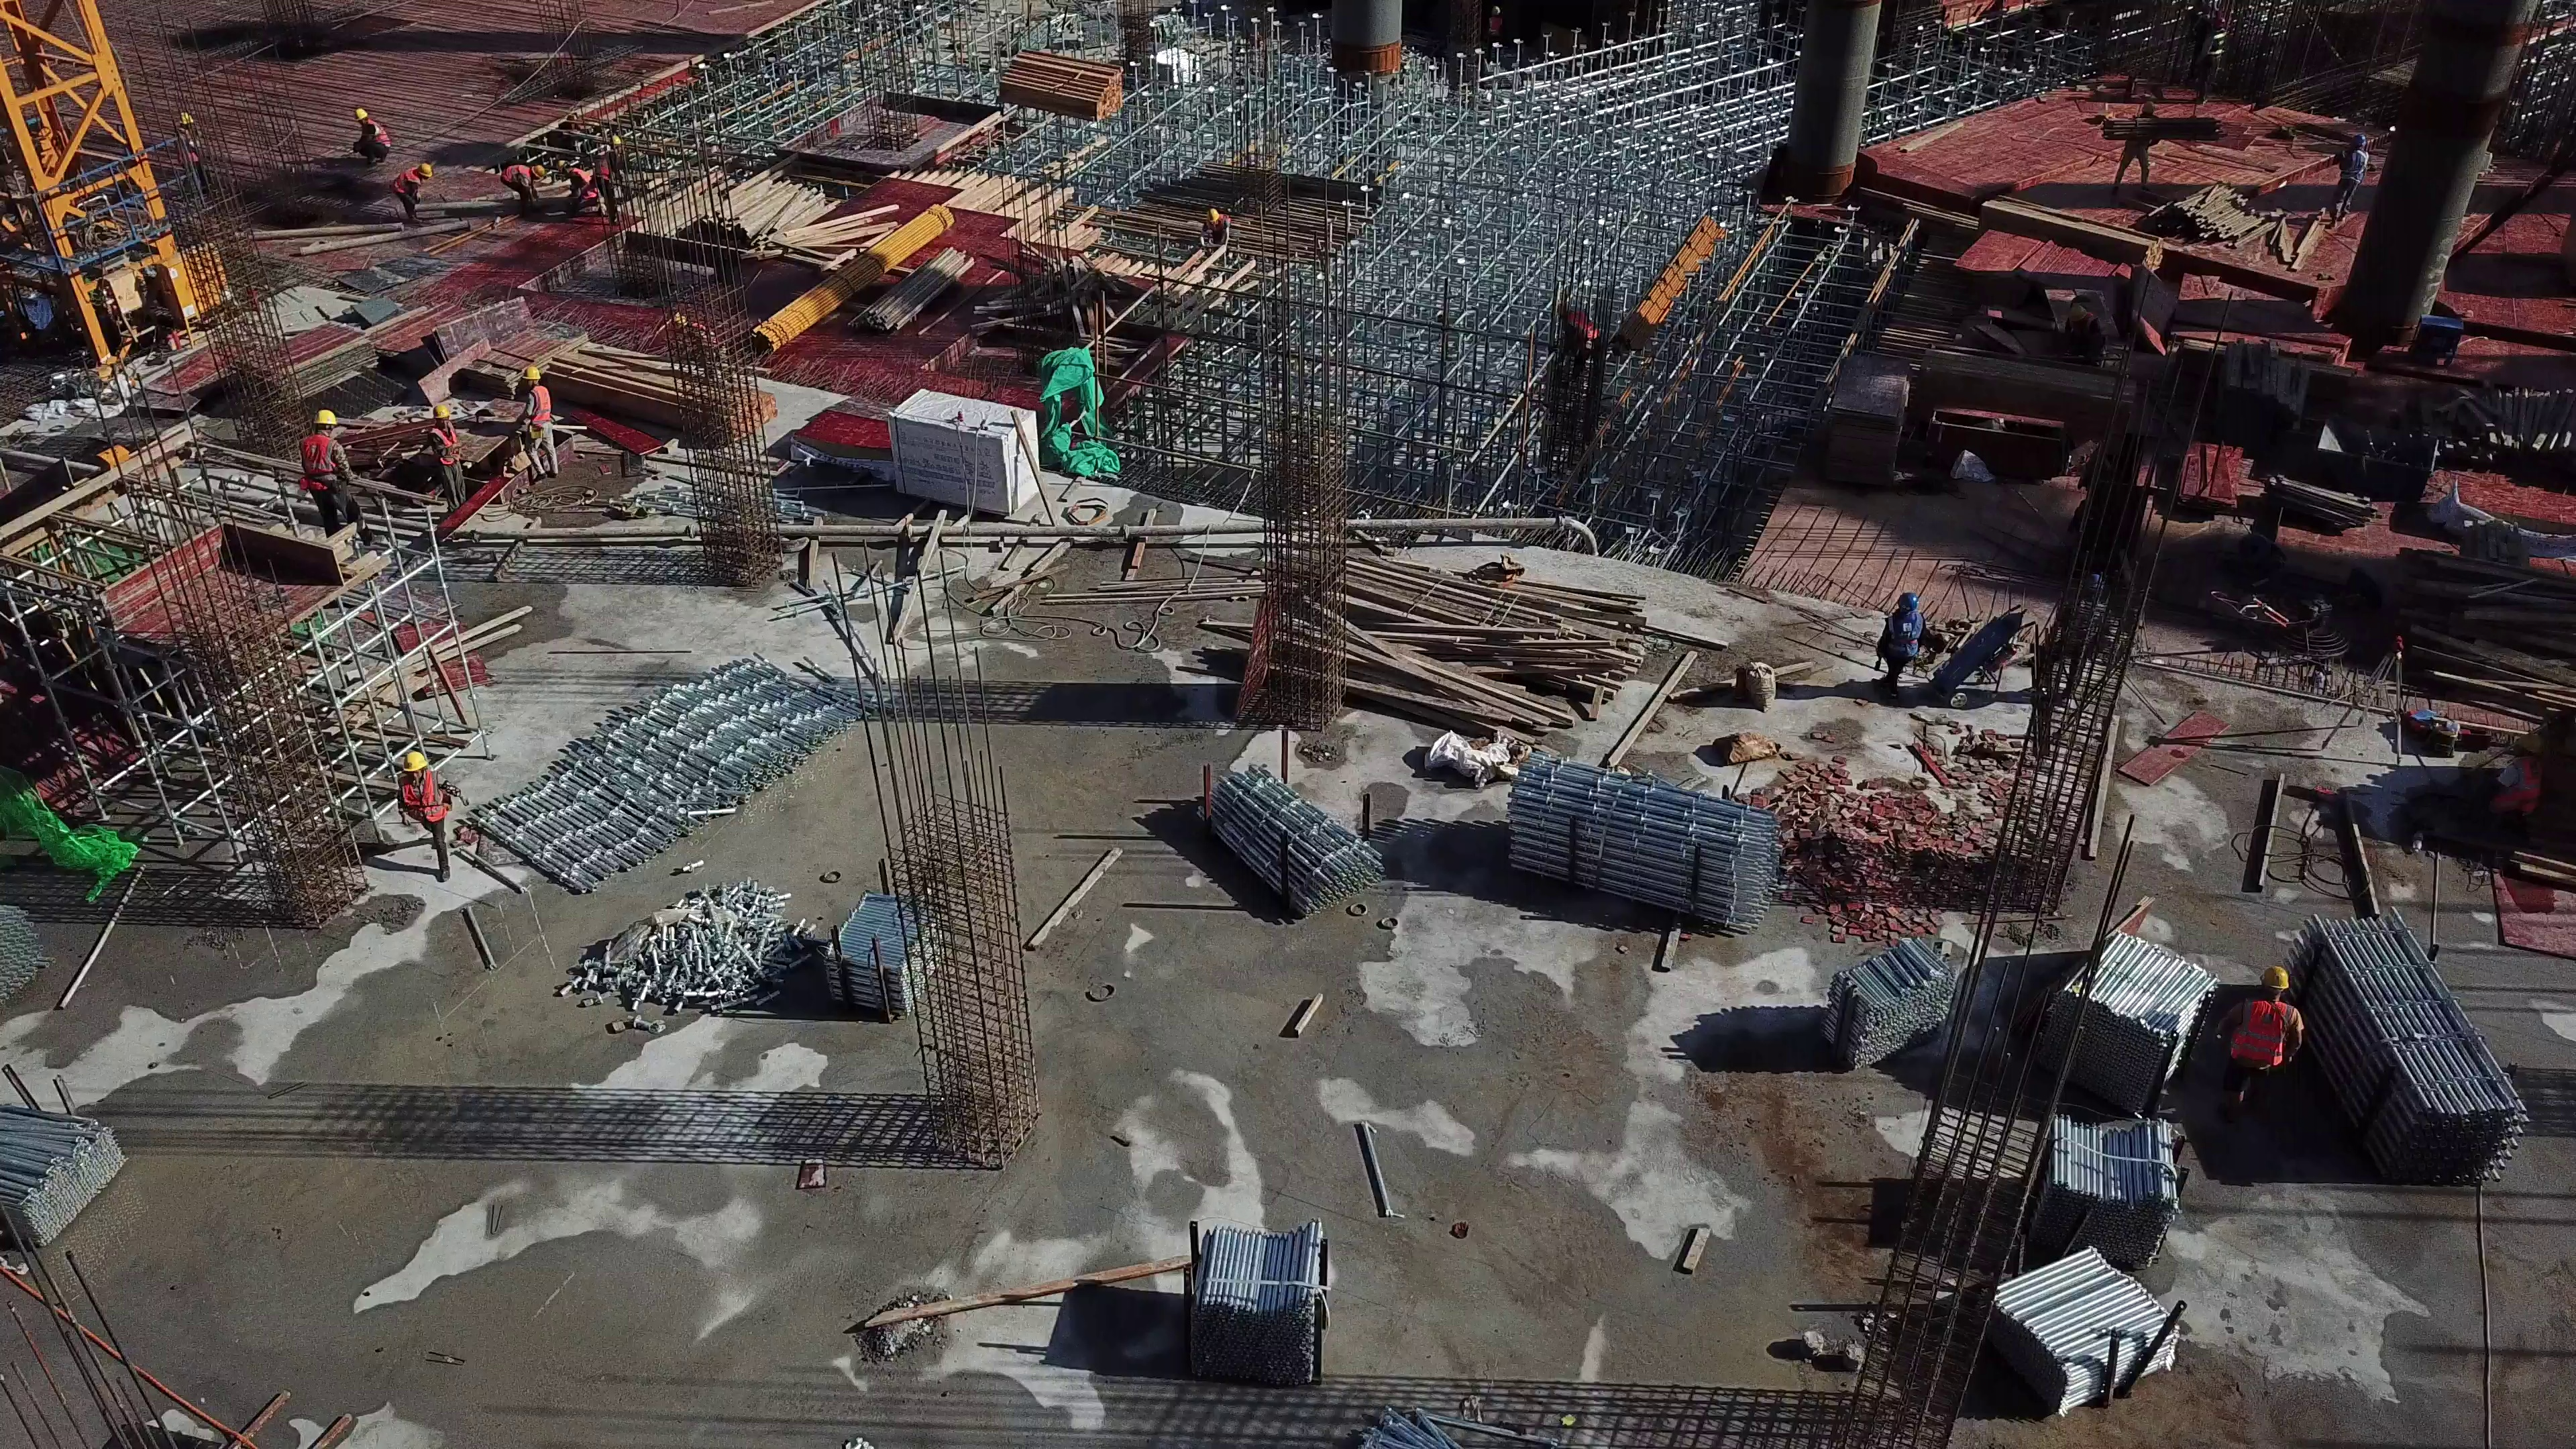board: (1827, 351, 1912, 485), (246, 325, 377, 400), (439, 304, 559, 382)
ebox: (164, 235, 235, 330), (2410, 307, 2459, 370)
helmet: (2257, 963, 2292, 992), (399, 747, 430, 775), (2518, 727, 2544, 751), (1896, 592, 1921, 612), (312, 409, 340, 427), (428, 401, 451, 419), (519, 365, 541, 382), (350, 107, 369, 124), (528, 162, 545, 182), (2350, 130, 2370, 146), (415, 160, 435, 177), (1205, 207, 1222, 223), (177, 113, 192, 125)
person: (2218, 959, 2310, 1136), (297, 408, 372, 557), (390, 754, 462, 894), (2486, 730, 2550, 837), (515, 366, 568, 489), (1871, 592, 1933, 694), (423, 410, 478, 522), (1554, 304, 1607, 373), (2332, 132, 2367, 229), (2118, 101, 2157, 188), (174, 113, 210, 199), (498, 158, 543, 217), (351, 105, 393, 168), (389, 160, 432, 219), (559, 161, 597, 218), (596, 151, 625, 220)
scaffold: (490, 630, 859, 898), (2303, 915, 2520, 1195), (1500, 750, 1777, 955), (1960, 1245, 2202, 1426), (1182, 765, 1376, 932), (2043, 930, 2202, 1094), (1182, 1216, 1333, 1378), (610, 893, 826, 1005), (2019, 1108, 2171, 1250), (1, 1095, 127, 1256), (1830, 939, 1966, 1067), (807, 890, 939, 1016)
vest: (2236, 998, 2300, 1071), (2489, 760, 2544, 820), (297, 434, 345, 500), (394, 773, 447, 827), (1879, 610, 1924, 663), (429, 423, 464, 468), (529, 384, 562, 427), (2340, 145, 2369, 185), (390, 168, 421, 198), (368, 122, 391, 152), (574, 169, 596, 200), (500, 161, 524, 182)
wood: (1333, 559, 1650, 730), (2415, 543, 2558, 706), (578, 342, 769, 441), (2211, 341, 2312, 466), (714, 180, 858, 268), (2173, 184, 2322, 264), (1002, 50, 1119, 131)
